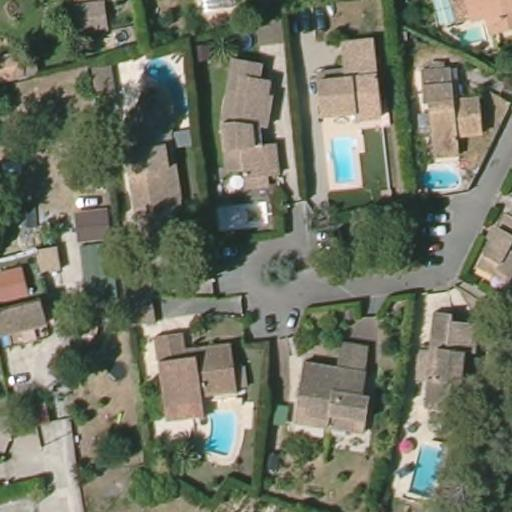pool: (121, 51, 190, 138), (327, 126, 366, 190), (406, 440, 451, 492), (203, 403, 245, 457), (419, 159, 471, 195), (448, 21, 495, 46)
